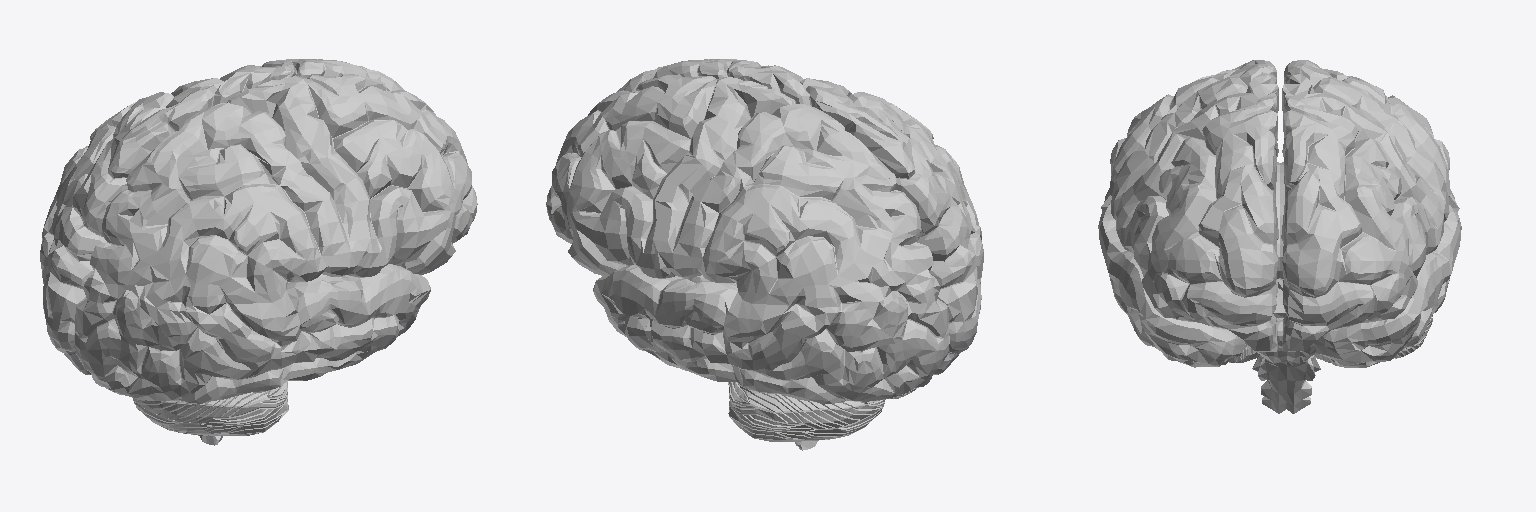
The model's file is head_obj.obj.
3 renders of one model, left to right at view 1: azimuth 30°, elevation 25°; view 2: azimuth 150°, elevation 25°; view 3: azimuth 270°, elevation 25°, orthographic.
Parts seen in each view (by area): view 1: pariet, frontal, occipit, temp, cereb; view 2: pariet, frontal, occipit, temp, cereb; view 3: frontal, temp, pariet, stem, corpus, cereb.
Part boxes in pixels (bbox=[...]): pariet: bbox=[47, 78, 350, 314]; frontal: bbox=[213, 59, 477, 277]; occipit: bbox=[40, 207, 251, 403]; temp: bbox=[208, 264, 430, 401]; cereb: bbox=[106, 381, 288, 435]; pariet: bbox=[673, 78, 976, 315]; frontal: bbox=[546, 59, 810, 278]; occipit: bbox=[772, 207, 983, 404]; temp: bbox=[593, 265, 813, 401]; cereb: bbox=[728, 382, 916, 441]; frontal: bbox=[1111, 72, 1448, 351]; temp: bbox=[1098, 188, 1461, 367]; pariet: bbox=[1109, 60, 1450, 212]; stem: bbox=[1245, 278, 1320, 413]; corpus: bbox=[1276, 162, 1284, 278]; cereb: bbox=[1228, 316, 1432, 362].
Bounding box in the file's own units: 16.31 × 14.27 × 13.41.